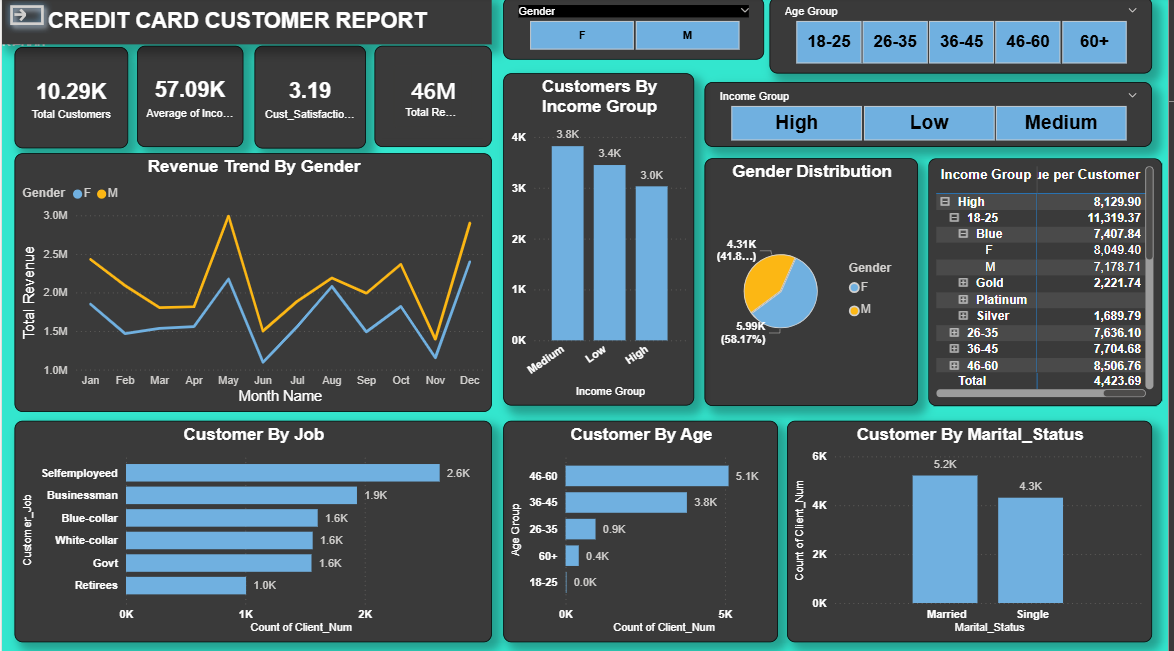

The dashboard page shown, as its layout file describes it:
{"tool":"powerbi","page":{"name":"customer report","canvas":[1280,720],"ordinal":0},"visuals":[{"type":"card","fields":{"Values":["CountNonNull(customer.Client_Num)"]},"box":[13.7,54.9,124.9,111.1],"z":0},{"type":"card","fields":{"Values":["Avg(customer.Income)"]},"box":[148.2,53.5,116.6,111.1],"z":1000},{"type":"card","fields":{"Values":["Avg(customer.Cust_Satisfaction_Score)"]},"box":[277.2,53.5,122.1,112.5],"z":2000},{"type":"slicer","fields":{"Values":["customer.Age Group"]},"box":[842.5,0,419.9,83.7],"z":3000},{"type":"slicer","fields":{"Values":["customer.Income Group"]},"box":[771.2,93.3,491.3,71.4],"z":4000},{"type":"pieChart","title":"Gender Distribution","fields":{"Category":["customer.Gender"],"Y":["CountNonNull(customer.Client_Num)"]},"box":[771.2,177,234.6,271.7],"z":5000},{"type":"clusteredBarChart","title":"Customer By Age","fields":{"Category":["customer.Age Group"],"Y":["CountNonNull(customer.Client_Num)"]},"box":[550.3,465.2,301.9,242.9],"z":6000},{"type":"clusteredColumnChart","title":"Customers By Income Group","fields":{"Category":["customer.Income Group"],"Y":["CountNonNull(customer.Client_Num)"]},"box":[550.3,83.7,209.9,365],"z":7000},{"type":"clusteredBarChart","title":"Customer By Job","fields":{"Category":["customer.Customer_Job"],"Y":["CountNonNull(customer.Client_Num)"]},"box":[13.7,465.2,524.2,242.9],"z":8000},{"type":"actionButton","title":"Go To Transition Report","box":[0,5.1,108.9,47.7],"z":9000},{"type":"columnChart","title":"Customer By Marital_Status","fields":{"Category":["customer.Marital_Status"],"Y":["CountNonNull(CreditCard.Client_Num)"]},"box":[861.8,465.2,400.7,242.9],"z":10000},{"type":"textbox","box":[0,0,537.9,52.1],"z":11000},{"type":"actionButton","box":[0,0,54.9,39.8],"z":12000},{"type":"cardVisual","fields":{"Data":["CreditCard.Total Revenue"]},"box":[408.9,53.5,129,111.1],"z":13000},{"type":"lineChart","title":"Revenue Trend By Gender","fields":{"Series":["customer.Gender"],"Y":["CreditCard.Total Revenue"],"Category":["CreditCard.Month Name"]},"box":[13.7,171.5,524.2,284],"z":14000},{"type":"pivotTable","fields":{"Rows":["customer.Income Group","customer.Age Group","CreditCard.Card_Category","customer.Gender"],"Values":["CreditCard.Total Customers","CreditCard.Total Revenue","CreditCard.Total Transactions","CreditCard.Avg Revenue per Customer"]},"box":[1016.8,177,256.6,271.7],"z":15000},{"type":"slicer","fields":{"Values":["customer.Gender"]},"box":[550.3,0,286.8,68.6],"z":16000}]}

Visuals, with their boxes in screenshot pixels (x1, y1, x2, y2), scaled from the page's 1280x720 canvas onto the 1174x651 screenshot:
card - CountNonNull(customer.Client_Num): <bbox>13, 50, 127, 150</bbox>
card - Avg(customer.Income): <bbox>136, 48, 243, 149</bbox>
card - Avg(customer.Cust_Satisfaction_Score): <bbox>254, 48, 366, 150</bbox>
slicer - customer.Age Group: <bbox>773, 0, 1158, 76</bbox>
slicer - customer.Income Group: <bbox>707, 84, 1158, 149</bbox>
"Gender Distribution" pieChart: <bbox>707, 160, 923, 406</bbox>
"Customer By Age" clusteredBarChart: <bbox>505, 421, 782, 640</bbox>
"Customers By Income Group" clusteredColumnChart: <bbox>505, 76, 697, 406</bbox>
"Customer By Job" clusteredBarChart: <bbox>13, 421, 493, 640</bbox>
"Go To Transition Report" actionButton: <bbox>0, 5, 100, 48</bbox>
"Customer By Marital_Status" columnChart: <bbox>790, 421, 1158, 640</bbox>
textbox: <bbox>0, 0, 493, 47</bbox>
actionButton: <bbox>0, 0, 50, 36</bbox>
cardVisual - CreditCard.Total Revenue: <bbox>375, 48, 493, 149</bbox>
"Revenue Trend By Gender" lineChart: <bbox>13, 155, 493, 412</bbox>
pivotTable - customer.Income Group x customer.Age Group: <bbox>933, 160, 1168, 406</bbox>
slicer - customer.Gender: <bbox>505, 0, 768, 62</bbox>
